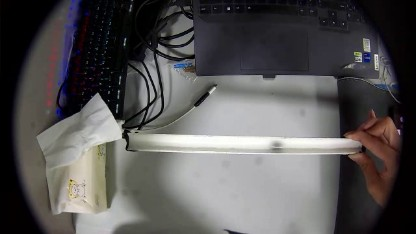gangzhu: (269, 141, 284, 151)
